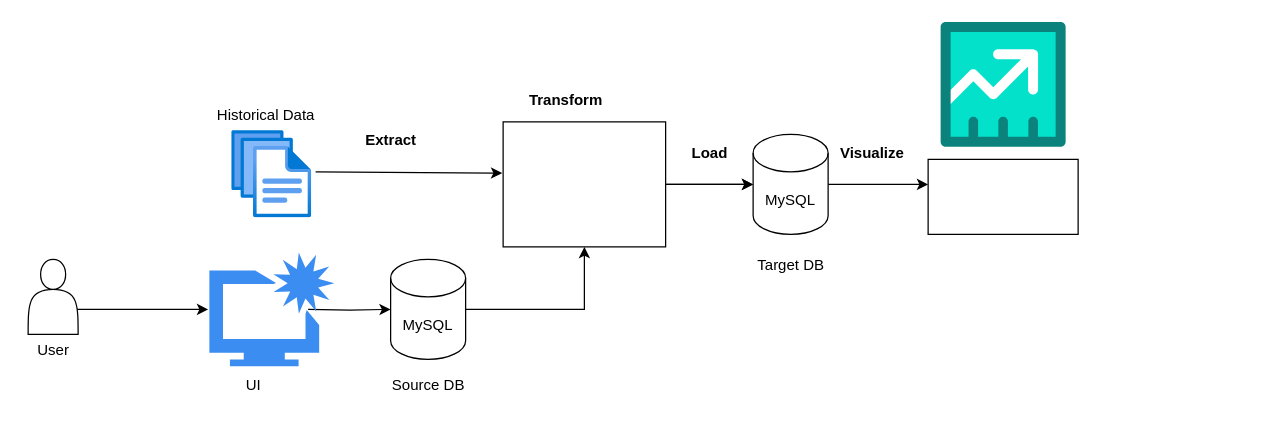
The diagram is 1261 pixels wide and 425 high, and some of its shapes have lost their labels. The shapes that lost their labels are listed below. From the top down, each one's centre as x and y in pixels, then its label:
point 584,184: Python Scripts - Clean - Prediction
point 1002,196: PowerBI
